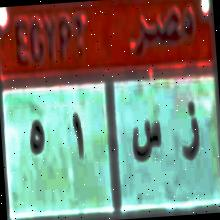1: (68, 107, 91, 166)
5: (24, 107, 58, 174)
seen: (126, 113, 166, 173)
zay: (176, 96, 208, 170)
